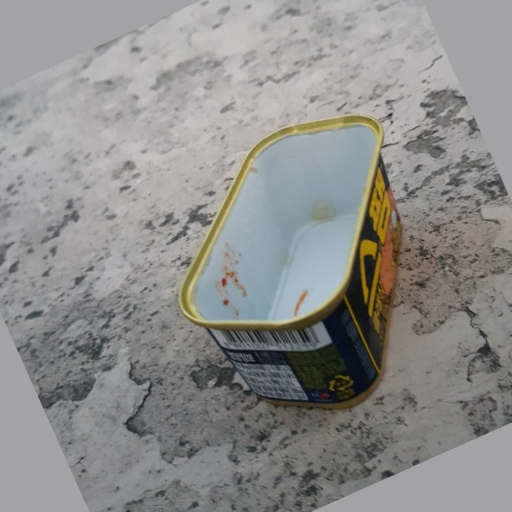Metal_2: (184, 117, 405, 410)
